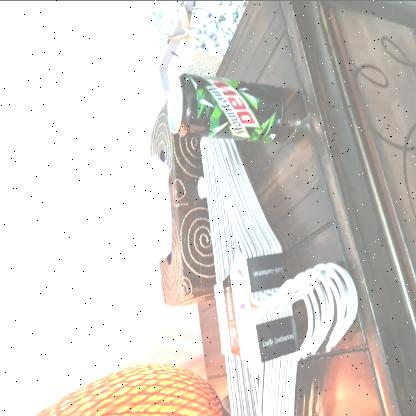Can: (166, 71, 288, 142)
